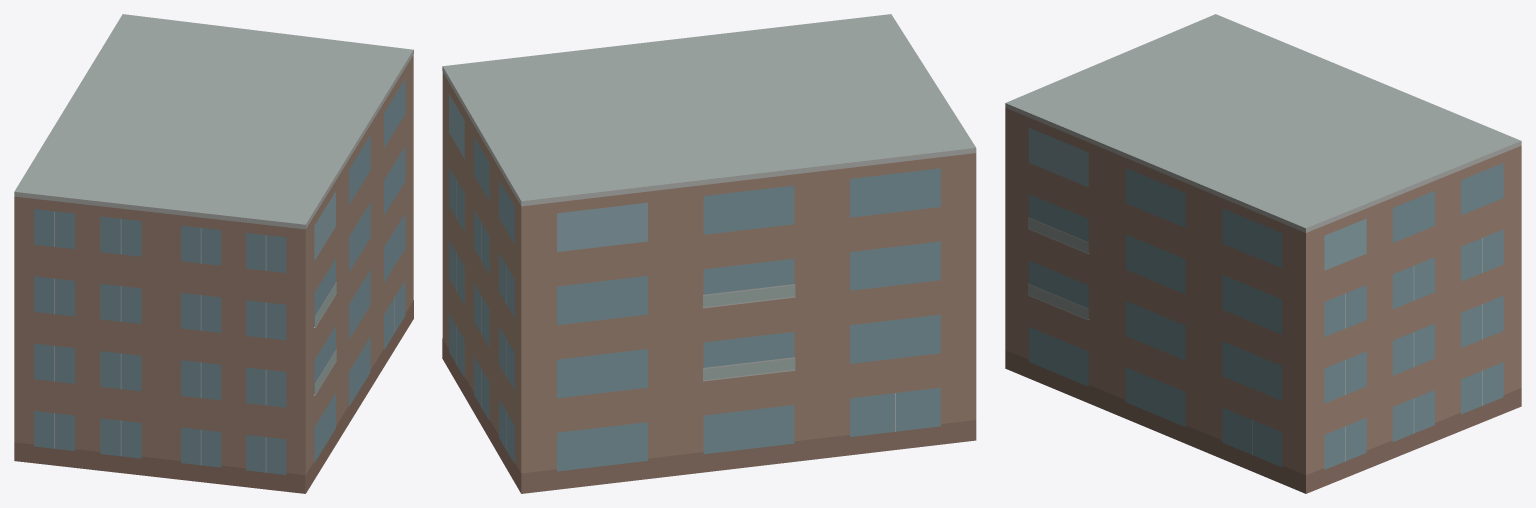
Rendered from survey-upis-32855614.glb.
3 renders of one model, left to right at view 1: azimuth 30°, elevation 25°; view 2: azimuth 150°, elevation 25°; view 3: azimuth 270°, elevation 25°, orthographic. The views are drawn at different scales.
Parts seen in each view (by area): view 1: survey-upis-32855614.tmp; view 2: survey-upis-32855614.tmp; view 3: survey-upis-32855614.tmp.
Part boxes in pixels (x1,y1,x2,y2): survey-upis-32855614.tmp: (14,14,413,493); survey-upis-32855614.tmp: (442,14,976,493); survey-upis-32855614.tmp: (1005,14,1521,493).
Size of the model in its own units: 24.25 by 14 by 24.68.
